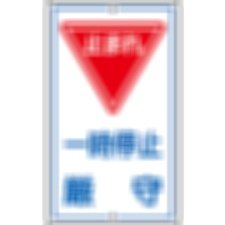Regulatory_sign_triangle: (56, 15, 168, 115)
